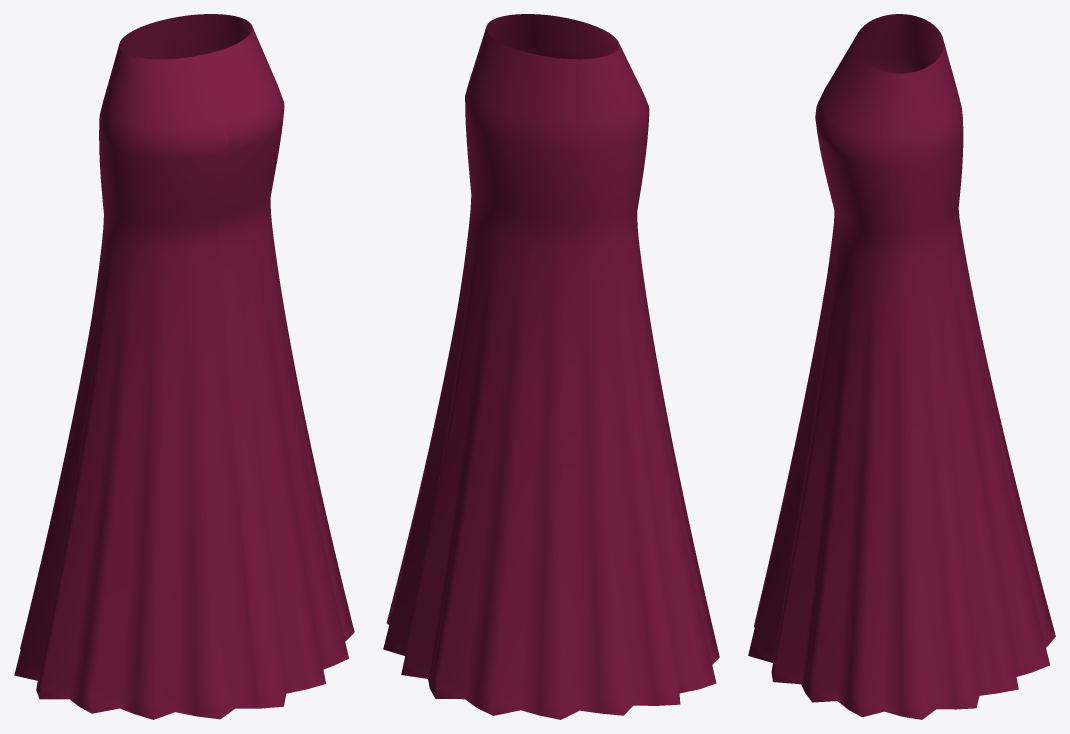
Rendered from dress_saree.glb.
3 renders of one model, left to right at view 1: azimuth 30°, elevation 25°; view 2: azimuth 150°, elevation 25°; view 3: azimuth 270°, elevation 25°, orthographic. The views are drawn at different scales.
Visible parts, largest first — view 1: Dress_Saree_Mesh; view 2: Dress_Saree_Mesh; view 3: Dress_Saree_Mesh.
Part boxes in pixels (box(x1,y1,x2,y2)): Dress_Saree_Mesh: box(14, 14, 354, 719); Dress_Saree_Mesh: box(383, 14, 719, 719); Dress_Saree_Mesh: box(748, 14, 1055, 719).
Bounding box in the file's own units: 0.6676 × 1.27 × 0.5883.
